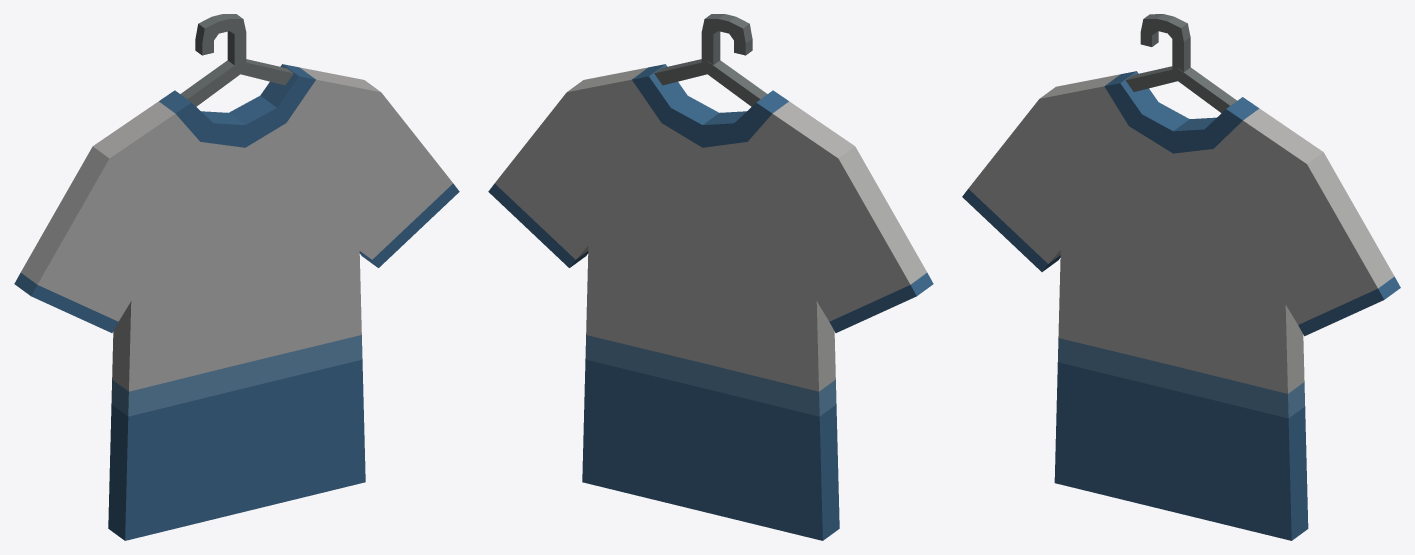
File: SM_Props_Interior_Shop_Clothes_Shirt_01.fbx
3 views of the same model, side by side, from view 1: azimuth 30°, elevation 25°; view 2: azimuth 150°, elevation 25°; view 3: azimuth 330°, elevation 25° (orthographic).
Parts seen in each view (by area): view 1: SM_Props_Interior_Shop_Clothes_Shirt_01; view 2: SM_Props_Interior_Shop_Clothes_Shirt_01; view 3: SM_Props_Interior_Shop_Clothes_Shirt_01.
Boxes of the visible parts, bbox=[...] form: SM_Props_Interior_Shop_Clothes_Shirt_01: bbox=[14, 14, 459, 540]; SM_Props_Interior_Shop_Clothes_Shirt_01: bbox=[488, 14, 933, 540]; SM_Props_Interior_Shop_Clothes_Shirt_01: bbox=[962, 14, 1400, 540].
Bounding box in the file's own units: 74.57 × 81.73 × 5.07.
